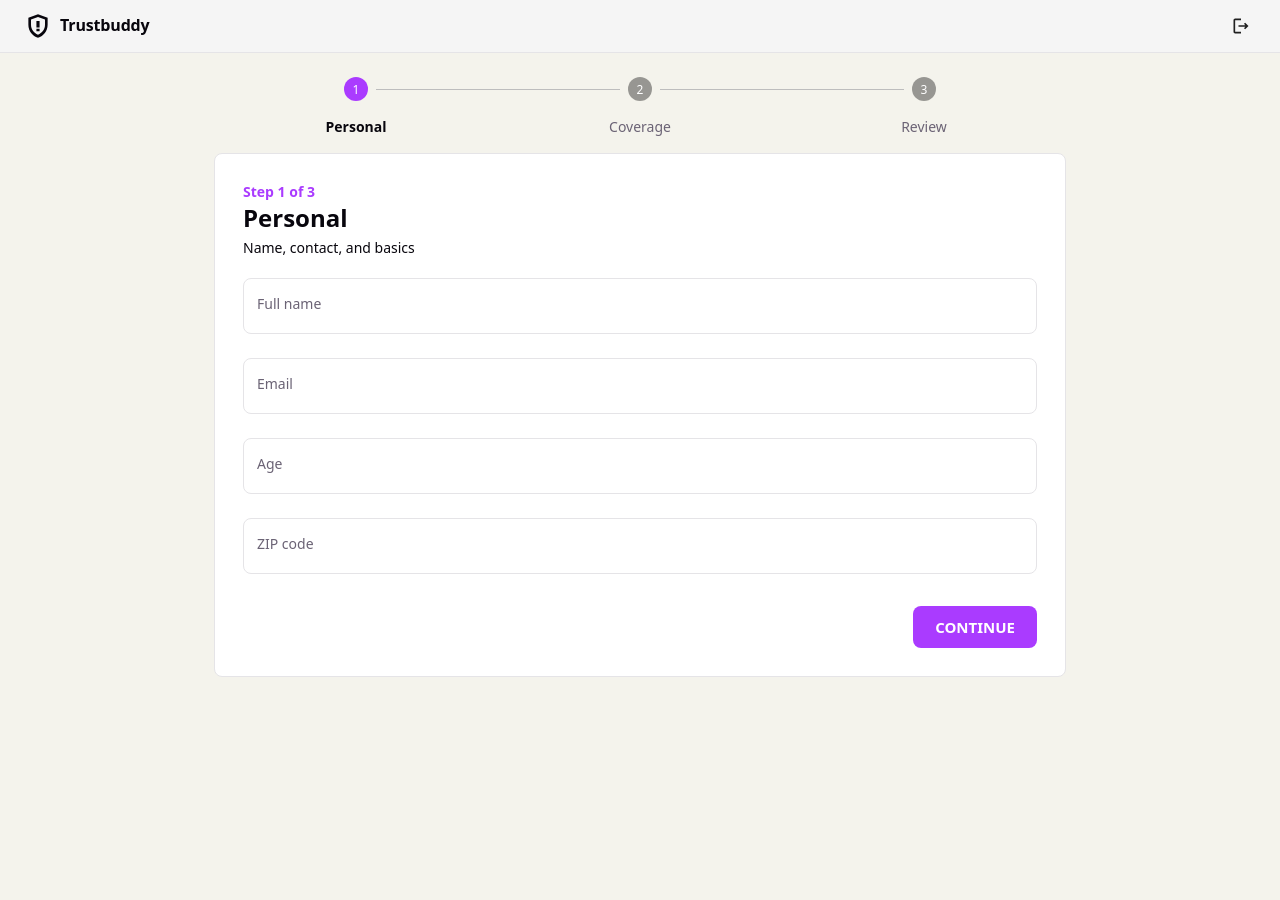
Test case: wizard routes › given_newQuote_when_personalSaved_then_createsAndAdvancesWithQuoteId
Type "Grace Hopper" into the field labelled "Full name" at (640, 306), box [243,278,1037,334]
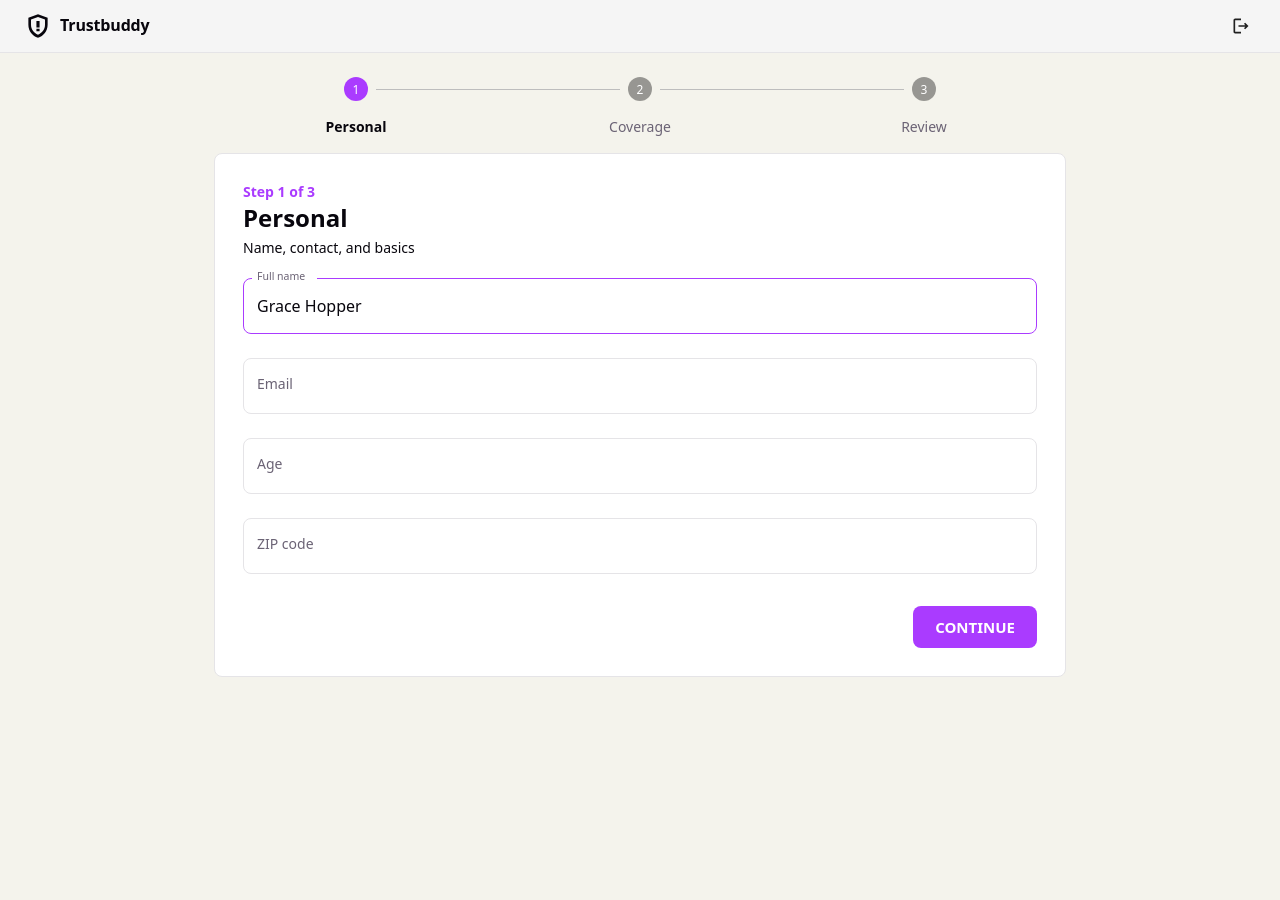
Type "grace@example.com" into the field labelled "Email" at (640, 386), box [243,358,1037,414]
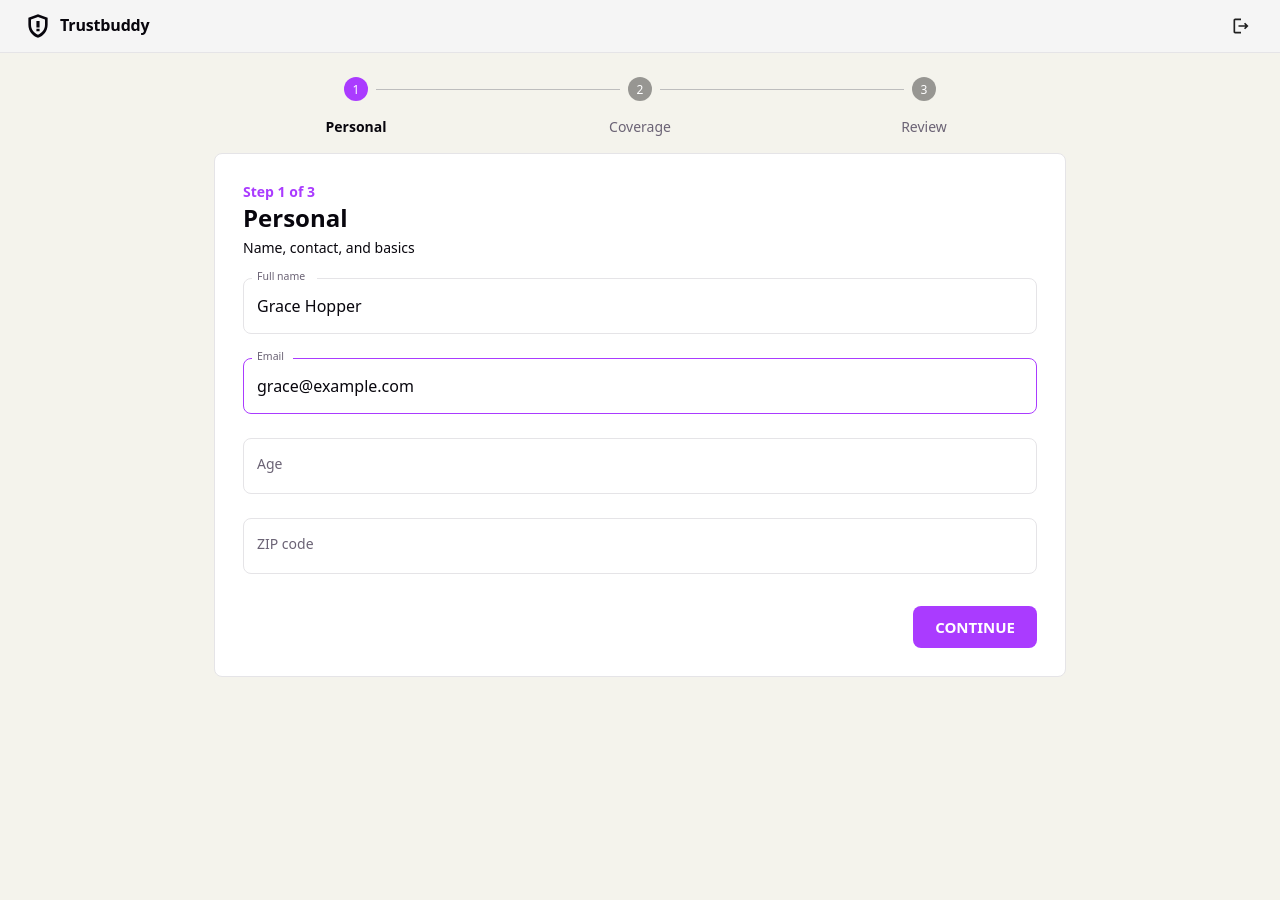
Type "40" into the number field labelled "Age" at (640, 466), box [243,438,1037,494]
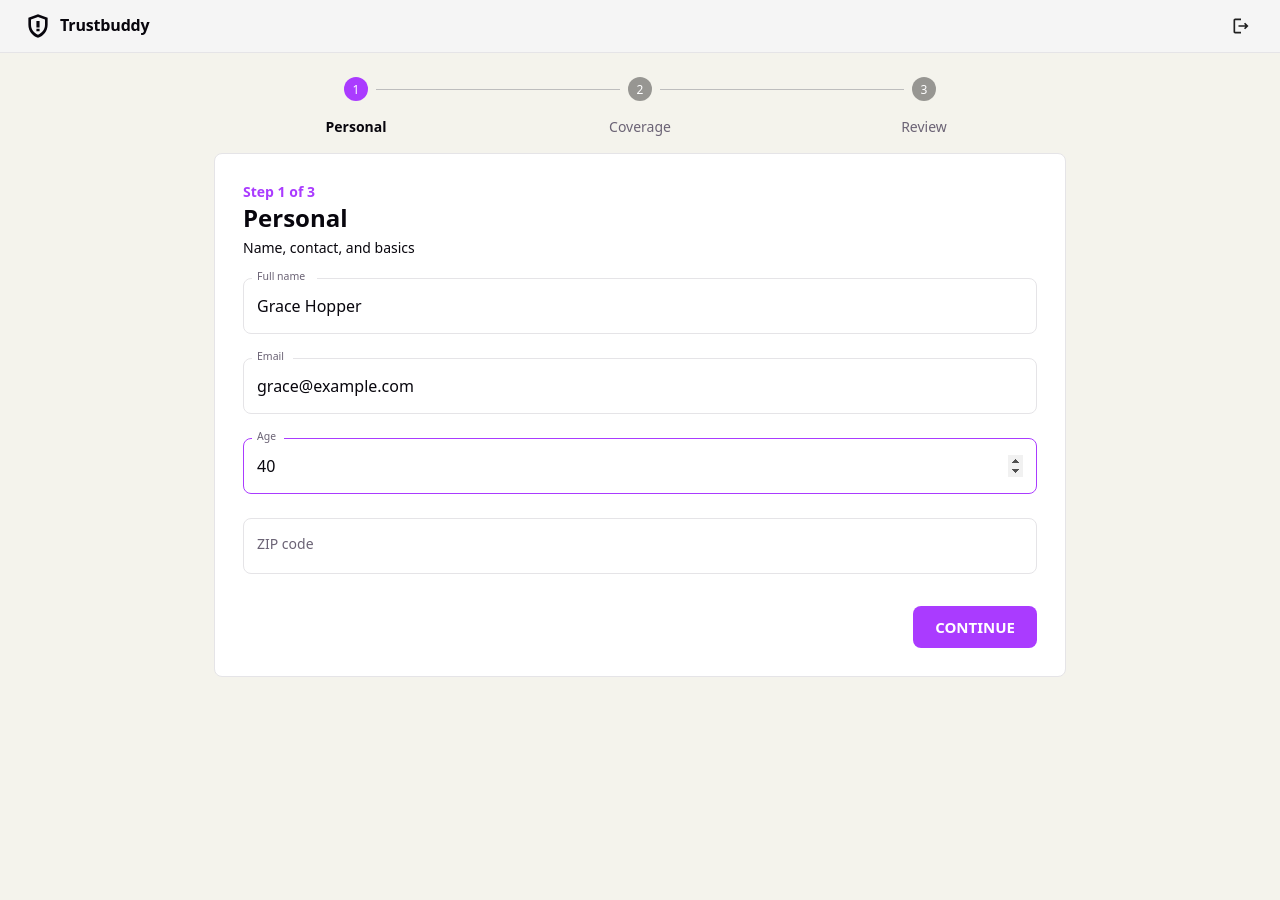
Type "10100" into the field labelled "ZIP code" at (640, 546), box [243,518,1037,574]
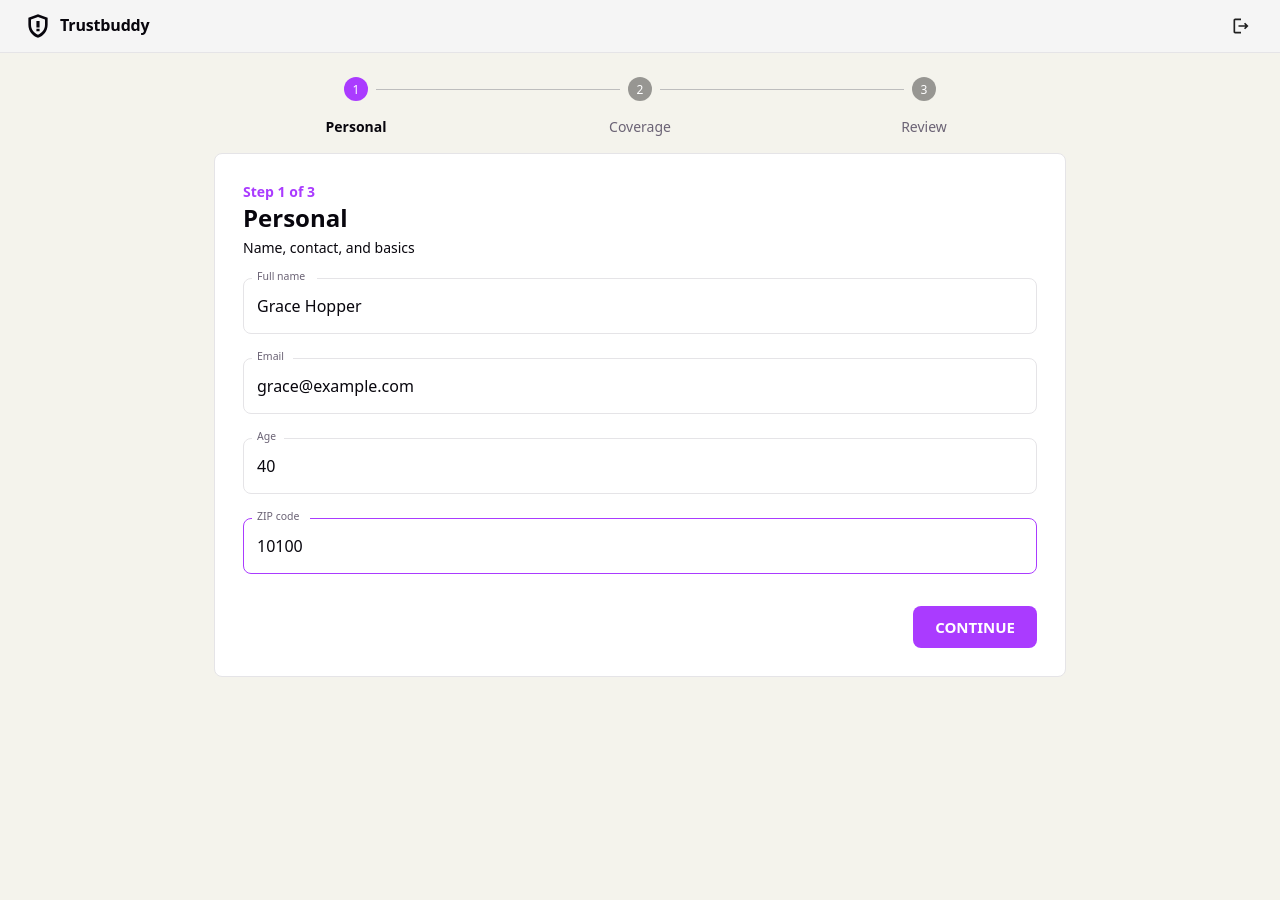
Click the button "Continue" at (975, 627), box [913,606,1037,648]
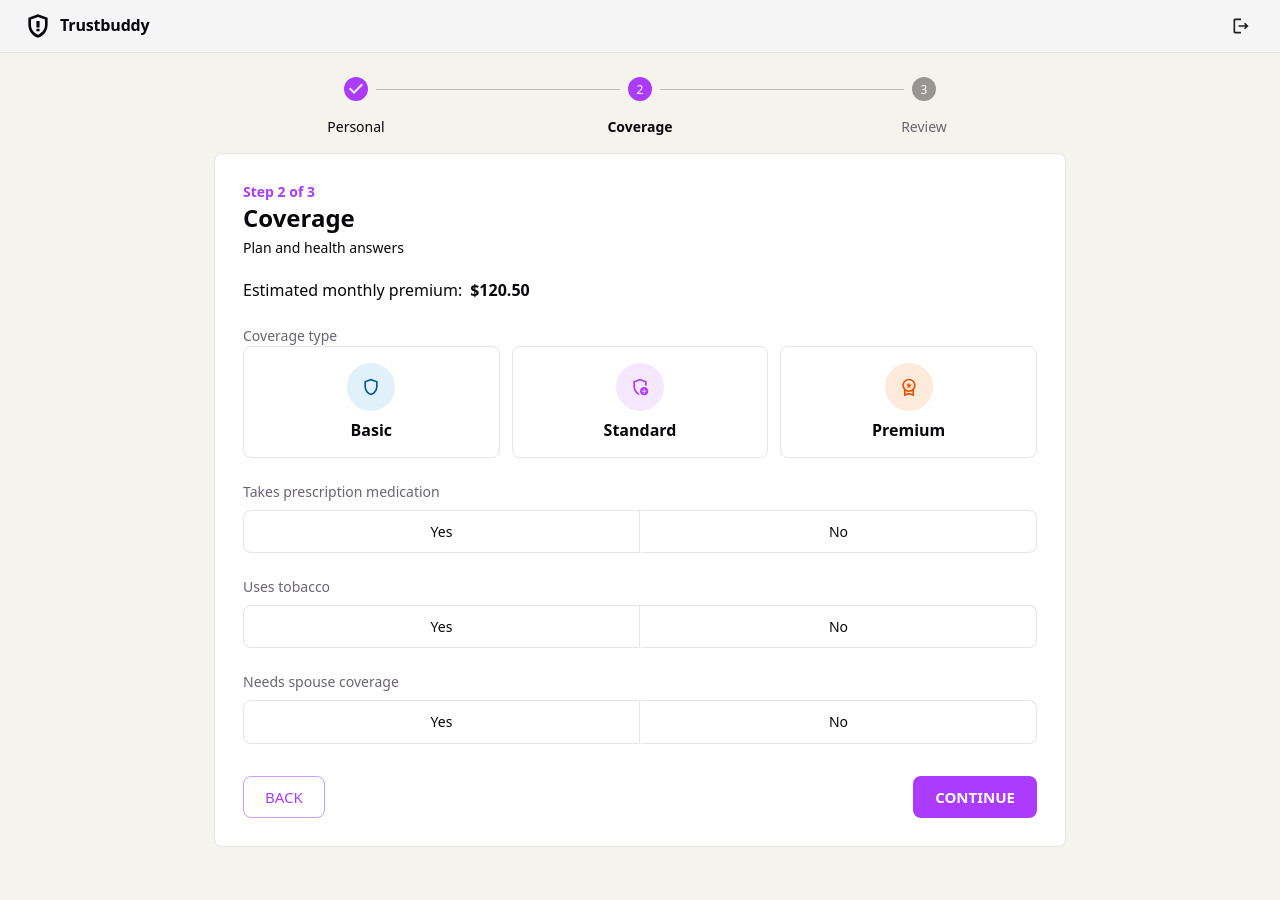
Expected: the heading "Coverage" is shown, [243,201,355,234]
